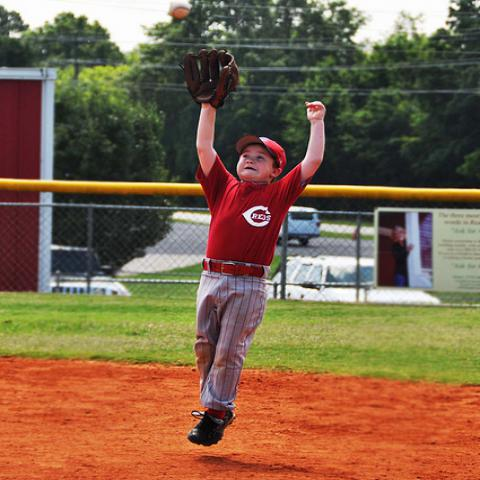car: (268, 253, 441, 305), (48, 244, 134, 297), (277, 206, 319, 244)
